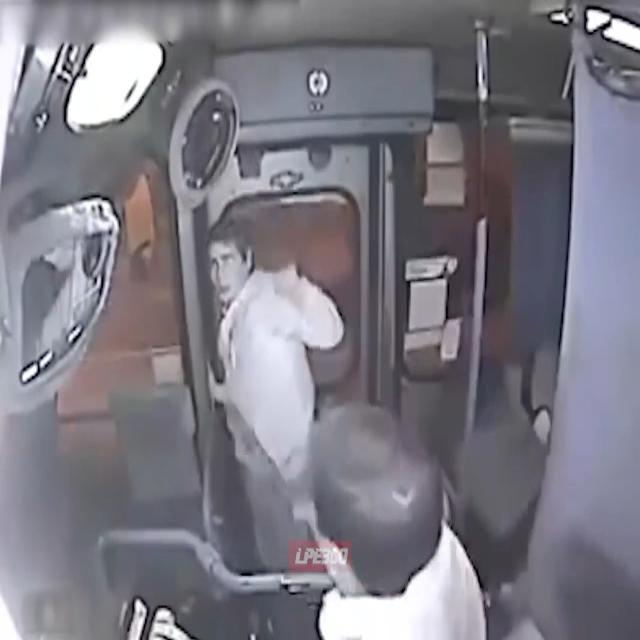fight: (204, 206, 493, 640)
